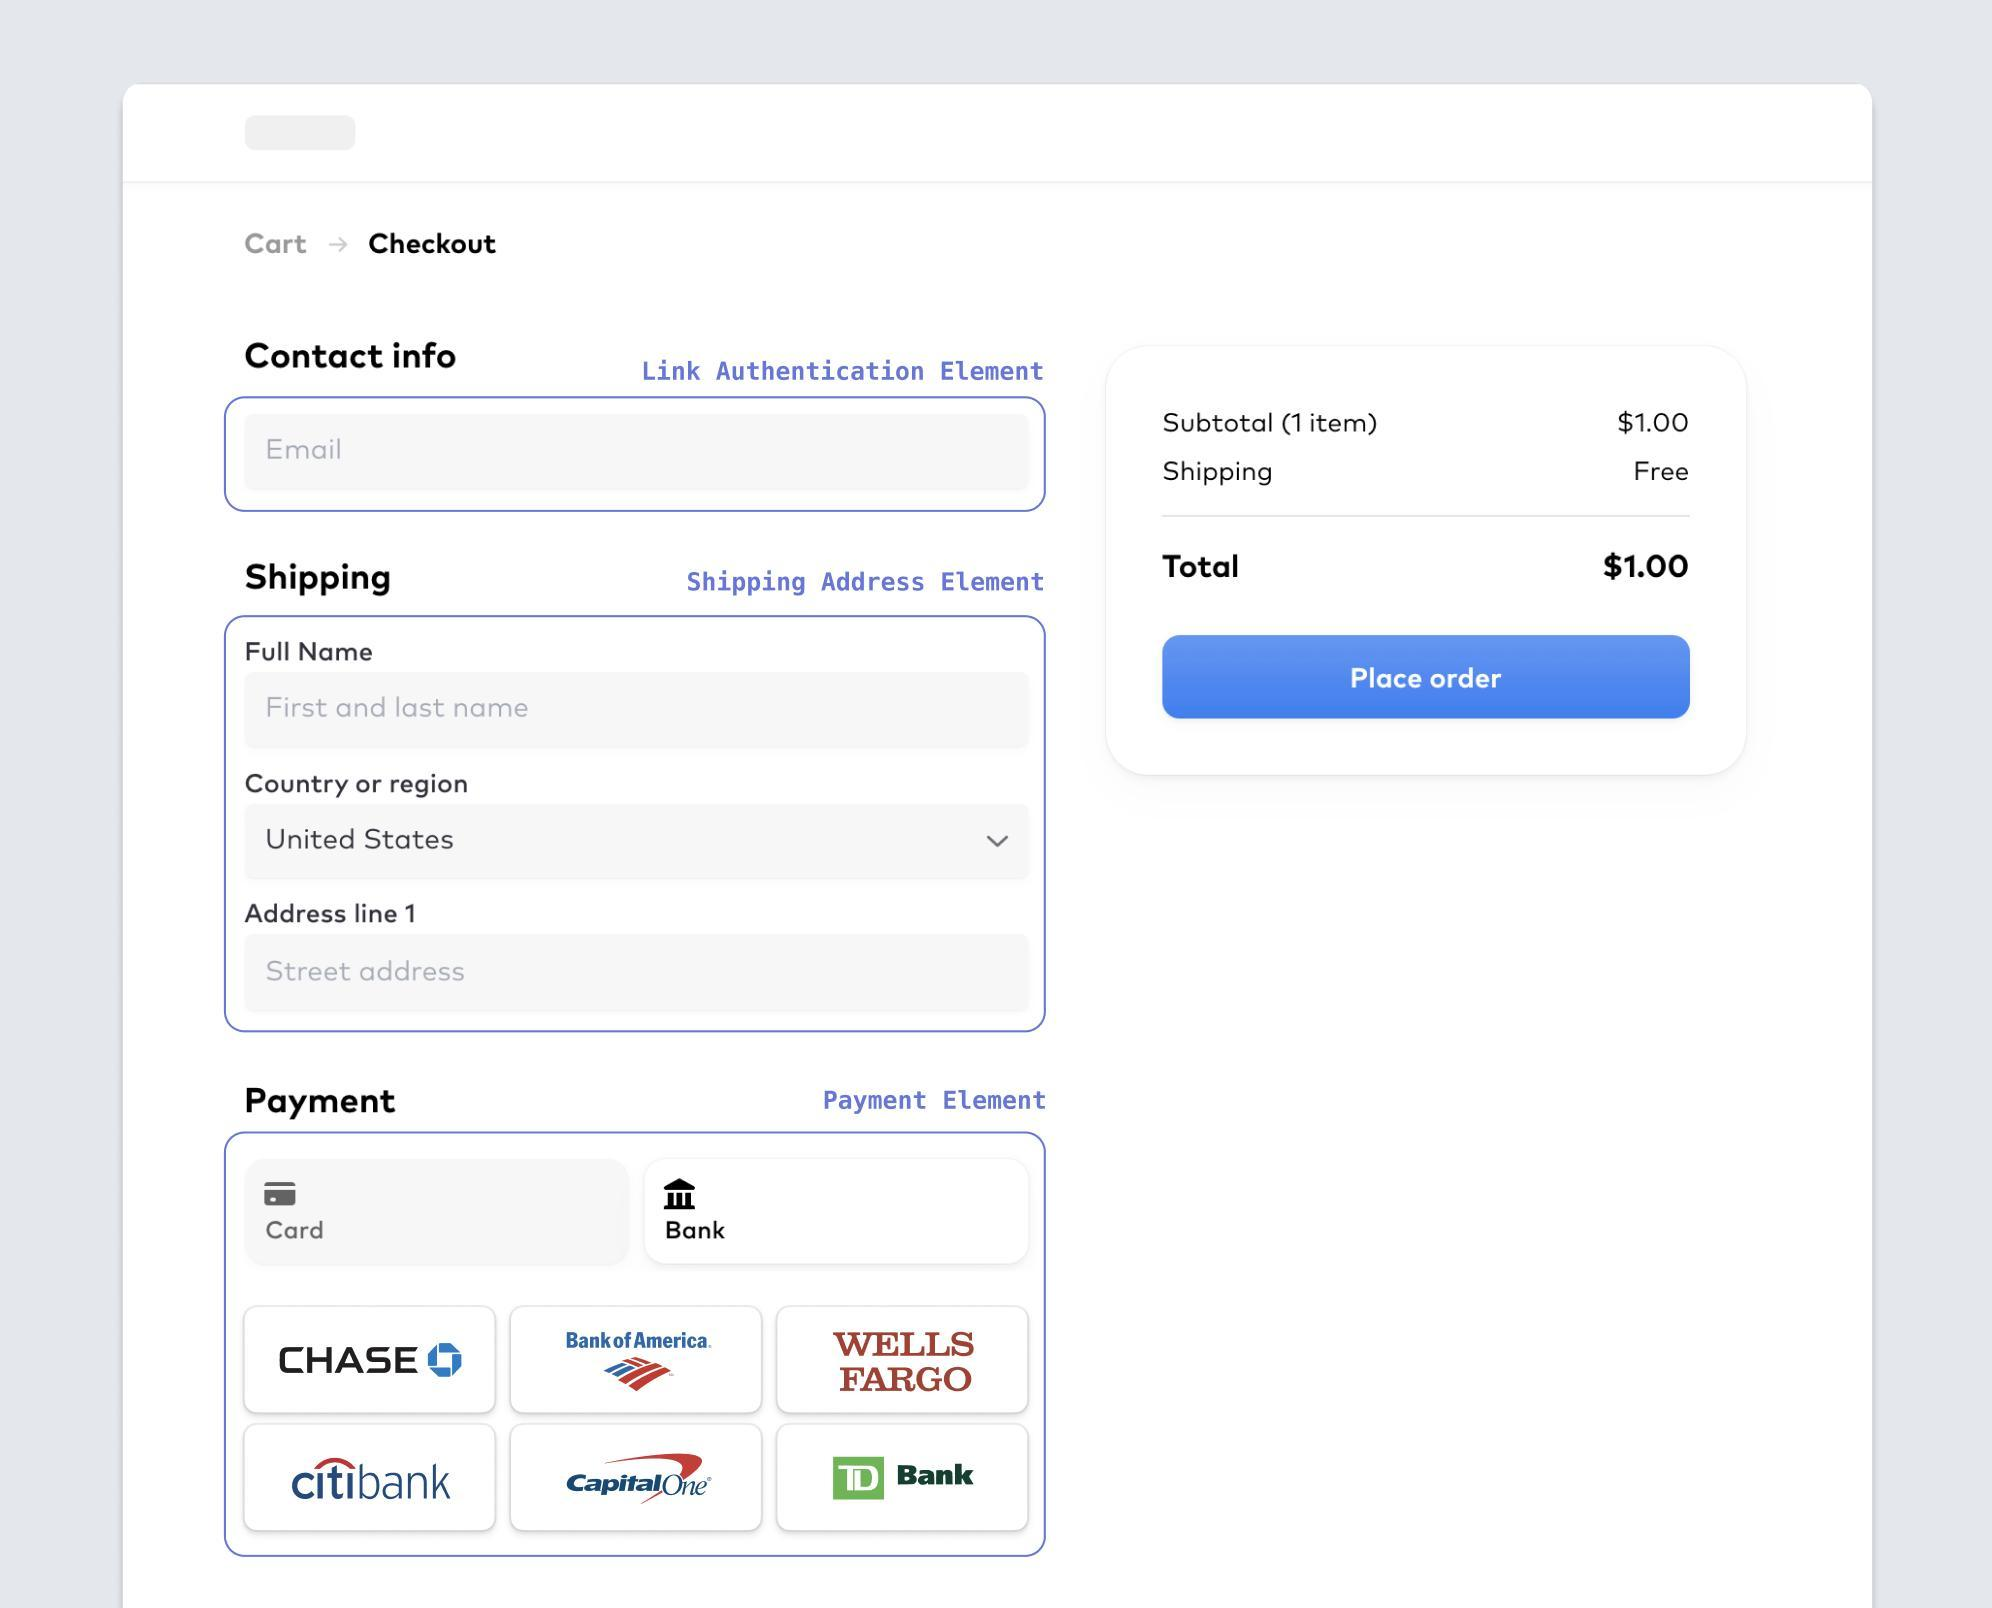button: (1162, 635, 1693, 724), (244, 1155, 633, 1267), (645, 1157, 1030, 1265)
dropdown: (243, 801, 1034, 886)
icon: (660, 1176, 699, 1214), (259, 1176, 299, 1209)
input: (241, 929, 1035, 1017), (240, 410, 1035, 497), (241, 669, 1037, 753)
label: (241, 1081, 404, 1126), (241, 340, 459, 372), (241, 563, 400, 602), (248, 771, 469, 797), (244, 901, 422, 929), (244, 637, 377, 666)
